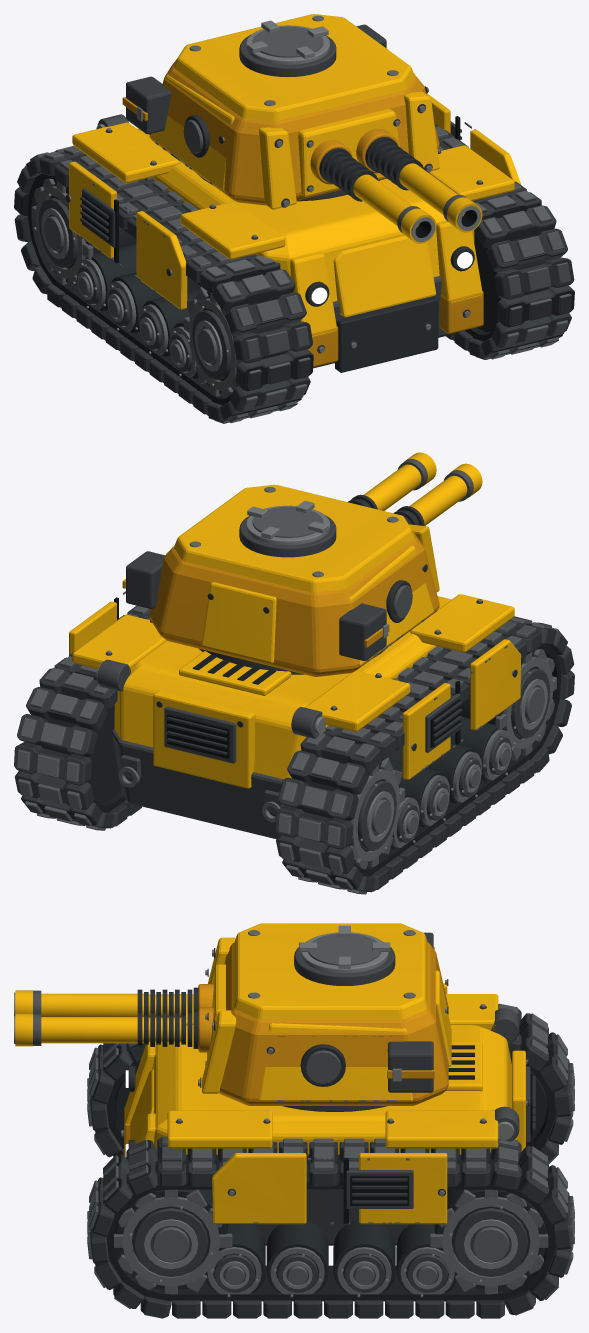
The model's file is tank.glb.
3 views of the same model, one above another, from view 1: azimuth 30°, elevation 25°; view 2: azimuth 150°, elevation 25°; view 3: azimuth 270°, elevation 25° (orthographic). The views are drawn at different scales.
Parts seen in each view (by area): view 1: Hull, Turret, TrackLeft, TrackRight, Barrel, Hatch, WheelLeft6, WheelLeft1, WheelLeft5, WheelLeft3, WheelLeft4, WheelRight1 (+1 smaller); view 2: Hull, Turret, TrackLeft, TrackRight, Barrel, Hatch, WheelLeft1, WheelLeft6, WheelLeft2, WheelLeft4, WheelLeft3, WheelRight6 (+1 smaller); view 3: Hull, Turret, TrackRight, Barrel, WheelRight6, WheelRight1, TrackLeft, Hatch, WheelRight4, WheelRight3, WheelRight5, WheelRight2 (+1 smaller).
Boxes of the visible parts, <box> form: Hull: <box>27,93,549,405</box>; Turret: <box>122,14,439,209</box>; TrackLeft: <box>14,146,313,423</box>; TrackRight: <box>434,123,574,359</box>; Barrel: <box>324,140,482,243</box>; Hatch: <box>239,20,336,76</box>; WheelLeft6: <box>32,178,136,290</box>; WheelLeft1: <box>184,287,239,398</box>; WheelLeft5: <box>73,244,136,310</box>; WheelLeft3: <box>135,289,199,356</box>; WheelLeft4: <box>103,272,162,333</box>; WheelRight1: <box>474,232,500,332</box>; Hull: <box>40,591,561,875</box>; Turret: <box>122,484,439,676</box>; TrackLeft: <box>275,616,574,894</box>; TrackRight: <box>14,605,150,830</box>; Barrel: <box>348,452,482,525</box>; Hatch: <box>239,501,336,557</box>; WheelLeft1: <box>460,649,556,760</box>; WheelLeft6: <box>350,757,404,869</box>; WheelLeft2: <box>450,717,515,781</box>; WheelLeft4: <box>389,759,453,827</box>; WheelLeft3: <box>427,743,485,803</box>; WheelRight6: <box>88,704,120,803</box>; Hull: <box>106,983,555,1301</box>; Turret: <box>193,923,451,1105</box>; TrackRight: <box>87,1136,574,1318</box>; Barrel: <box>14,989,192,1046</box>; WheelRight6: <box>430,1189,548,1294</box>; WheelRight1: <box>114,1189,232,1294</box>; TrackLeft: <box>87,1003,574,1163</box>; Hatch: <box>294,925,395,985</box>; WheelRight4: <box>333,1219,395,1297</box>; WheelRight3: <box>266,1220,328,1297</box>; WheelRight5: <box>396,1224,457,1297</box>; WheelRight2: <box>205,1224,265,1297</box>.
Bounding box in the file's own units: 1 × 0.7542 × 1.31.
